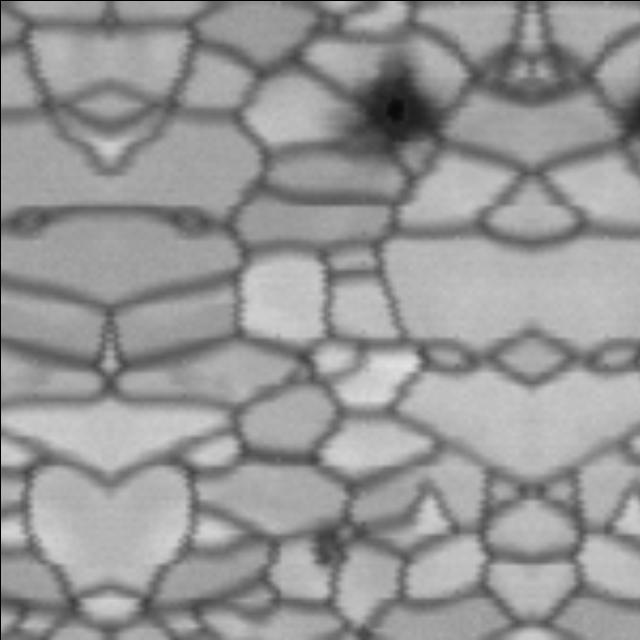good_void: (347, 64, 454, 156), (160, 189, 222, 245), (308, 515, 363, 573), (0, 189, 56, 245), (530, 47, 582, 98), (479, 47, 530, 98)
